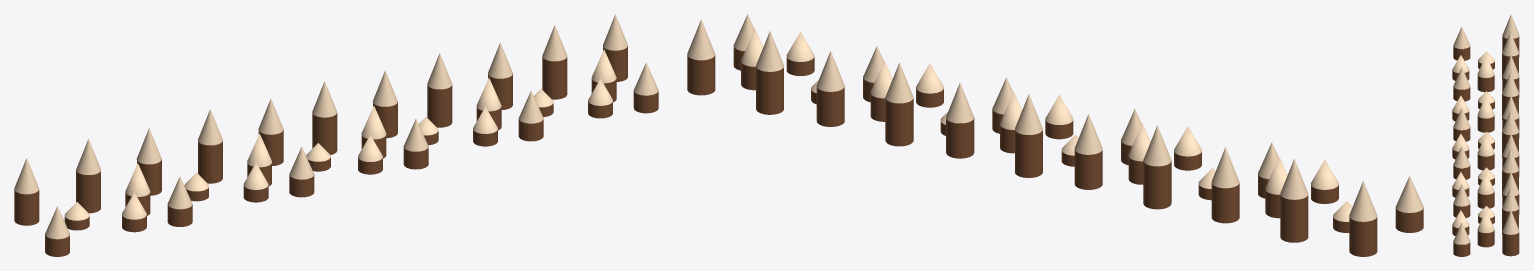
The model's file is obstacle_thorn.glb.
3 renders of one model, left to right at view 1: azimuth 30°, elevation 25°; view 2: azimuth 150°, elevation 25°; view 3: azimuth 270°, elevation 25°, orthographic. The views are drawn at different scales.
Visible parts, largest first — view 1: Cylinder.027, Cylinder.043, Cylinder.011, Cylinder.010, Cylinder.006, Cylinder.029, Cylinder.004, Cylinder.008, Cylinder.013, Cylinder.033, Cylinder.039, Cone.003 (+32 smaller); view 2: Cylinder.027, Cylinder.011, Cylinder.010, Cylinder.043, Cylinder.006, Cylinder.008, Cylinder.039, Cylinder.029, Cylinder.004, Cylinder.013, Cylinder.033, Cone.010 (+29 smaller); view 3: Cylinder.039, Cylinder.038, Cylinder.003, Cylinder.014, Cylinder.001, Cylinder.026, Cone.039, Cone.043, Cone.010, Cone.011, Cone.006, Cone.027 (+51 smaller).
Boxes of the visible parts, x1,y1,x2,y2 form: Cylinder.027: (427, 85, 452, 127); Cylinder.043: (542, 57, 567, 99); Cylinder.011: (198, 141, 222, 183); Cylinder.010: (76, 170, 100, 213); Cylinder.006: (312, 113, 337, 154); Cylinder.029: (14, 190, 39, 225); Cylinder.004: (258, 129, 283, 165); Cylinder.008: (373, 101, 397, 138); Cylinder.013: (137, 159, 161, 195); Cylinder.033: (488, 74, 512, 109); Cylinder.039: (603, 46, 627, 81); Cone.003: (258, 98, 283, 134); Cylinder.027: (885, 98, 913, 146); Cylinder.011: (1143, 161, 1171, 209); Cylinder.010: (1280, 195, 1308, 242); Cylinder.043: (756, 67, 783, 114); Cylinder.006: (1015, 130, 1042, 177); Cylinder.008: (946, 117, 974, 158); Cylinder.039: (687, 55, 715, 95); Cylinder.029: (1349, 217, 1377, 256); Cylinder.004: (1074, 150, 1102, 189); Cylinder.013: (1211, 183, 1239, 223); Cylinder.033: (816, 87, 844, 126); Cone.010: (1143, 125, 1171, 166); Cylinder.039: (1502, 231, 1519, 256); Cylinder.038: (1477, 230, 1494, 247); Cylinder.003: (1477, 116, 1494, 132); Cylinder.014: (1477, 75, 1494, 92); Cylinder.001: (1477, 154, 1494, 170); Cylinder.026: (1477, 192, 1494, 208); Cone.039: (1502, 210, 1519, 234); Cone.043: (1502, 187, 1518, 211); Cone.010: (1502, 72, 1518, 96); Cone.011: (1502, 32, 1518, 56); Cone.006: (1502, 110, 1518, 134); Cone.027: (1502, 149, 1518, 173).
Bounding box in the file's own units: 14.23 × 1.56 × 1.97.
